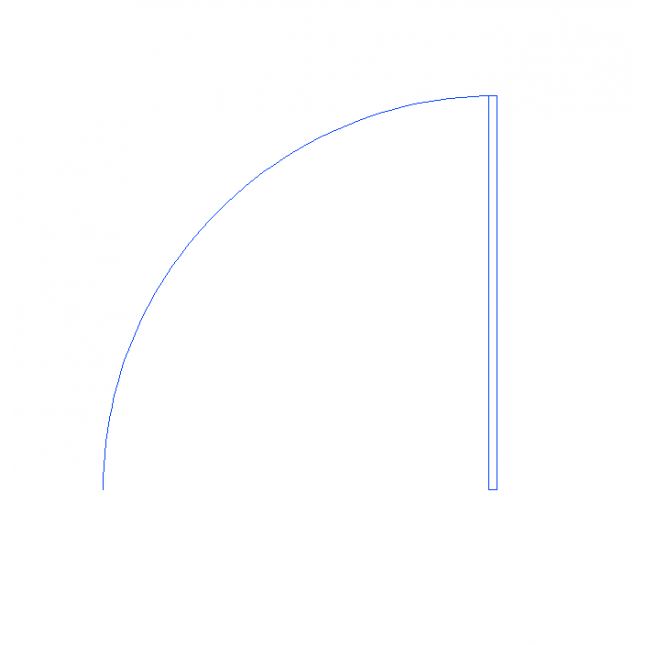door: (96, 59, 494, 503)
